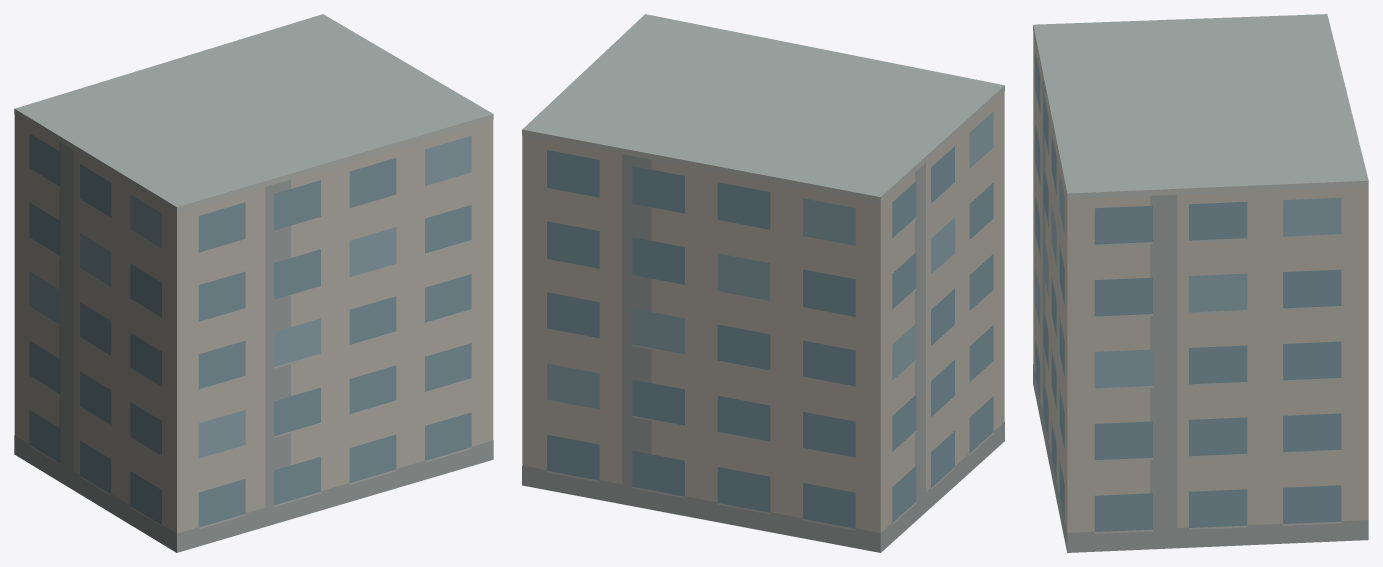
The model's file is survey-upis-32567459.glb.
The picture shows the model from 3 angles, left to right: view 1: azimuth 30°, elevation 25°; view 2: azimuth 150°, elevation 25°; view 3: azimuth 270°, elevation 25°; orthographic projection. The views are drawn at different scales.
Visible parts, largest first — view 1: survey-upis-32567459.tmp; view 2: survey-upis-32567459.tmp; view 3: survey-upis-32567459.tmp.
Boxes of the visible parts, bbox=[...] form: survey-upis-32567459.tmp: bbox=[14, 14, 493, 552]; survey-upis-32567459.tmp: bbox=[522, 14, 1004, 552]; survey-upis-32567459.tmp: bbox=[1033, 14, 1368, 552].
Bounding box in the file's own units: 15.65 × 14.6 × 12.36.
